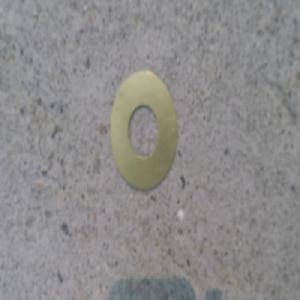Washer: (109, 69, 180, 194)
